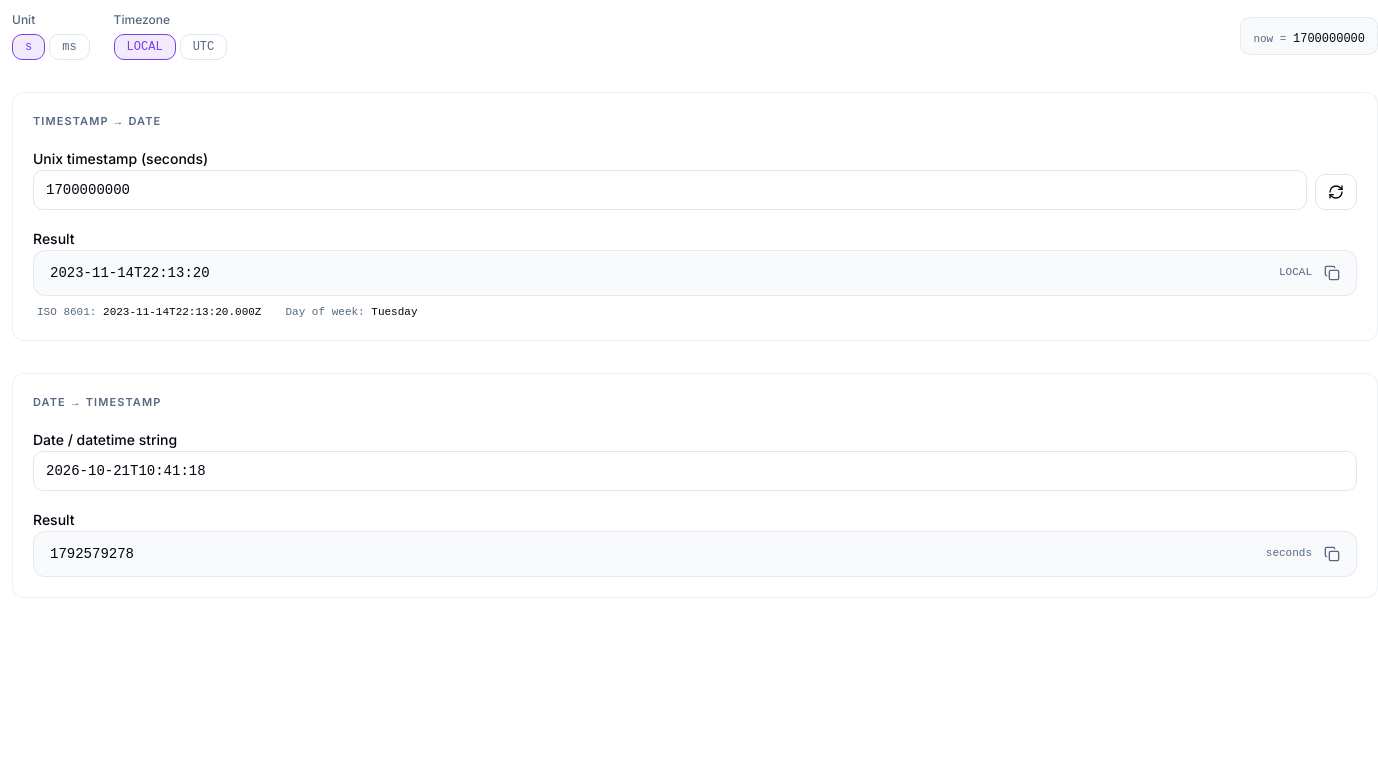
TimestampConverter › shows an error for an invalid date string
Step 1. Replace the text in the field labelled "Date / datetime string" with "not-a-date" → (695, 470), box [33,450,1357,490]
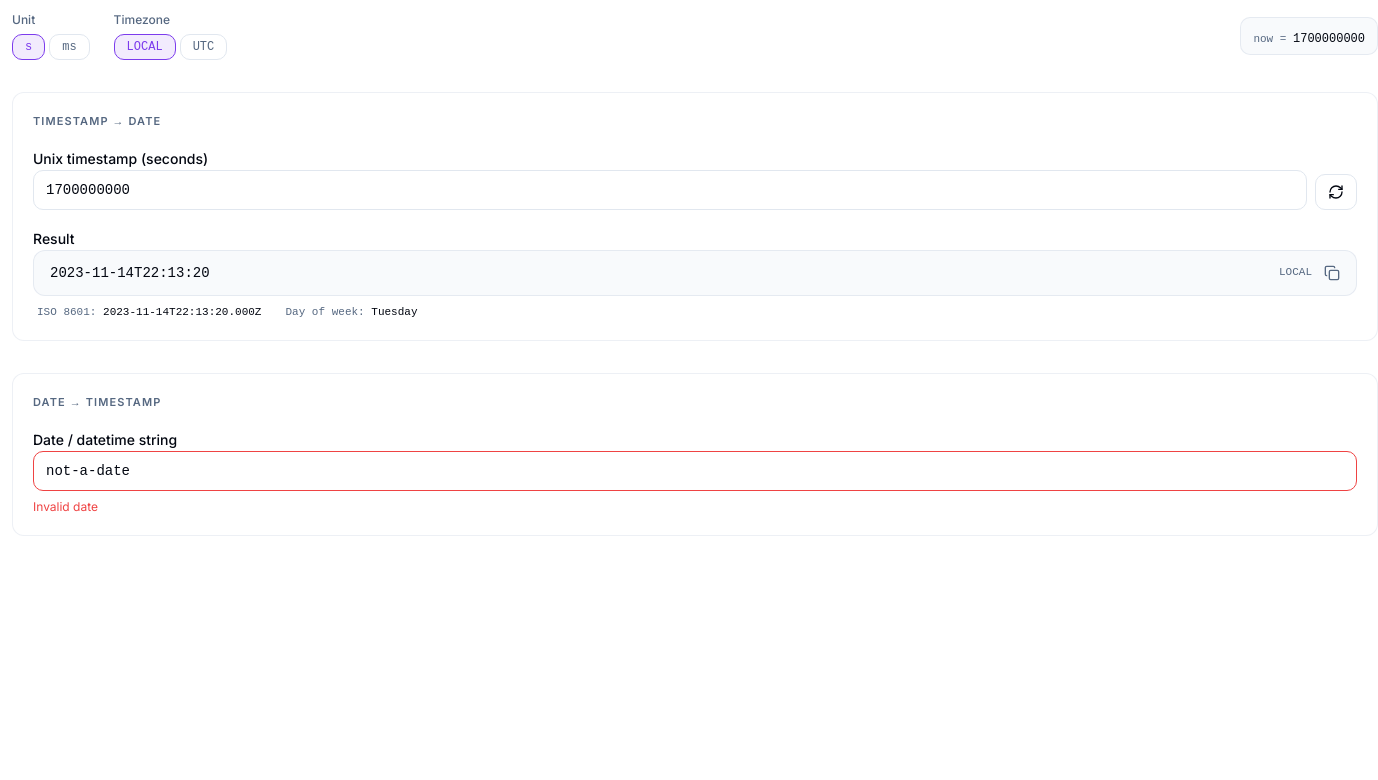
Check: the text "Invalid date" is shown, box [33,498,98,514]
